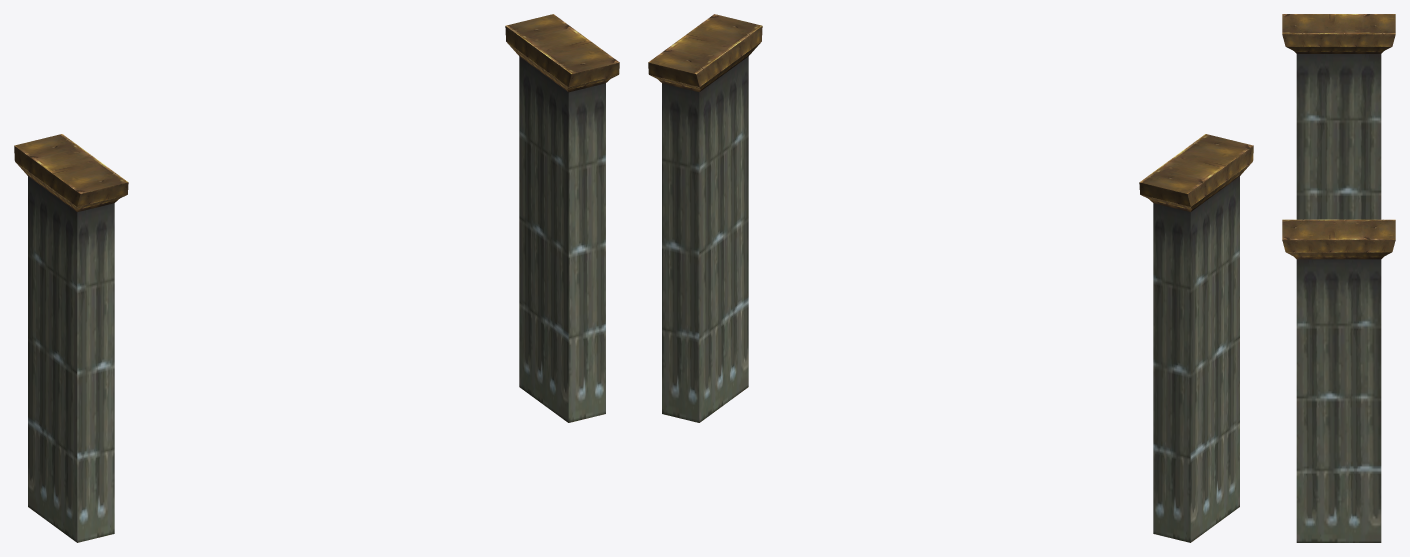
File: FinalGatePillars.FBX
3 views of the same model, side by side, from view 1: azimuth 30°, elevation 25°; view 2: azimuth 150°, elevation 25°; view 3: azimuth 270°, elevation 25° (orthographic). The views are drawn at different scales.
Parts seen in each view (by area): view 1: 0_0; view 2: 0_0; view 3: 0_0.
Boxes of the visible parts, x1,y1,x2,y2 form: 0_0: (14, 14, 619, 542); 0_0: (648, 14, 1253, 542); 0_0: (1282, 14, 1395, 542).
Size of the model in its own units: 19.29 by 12.12 by 4.09.
Materials: 1 (1 with a texture image).
